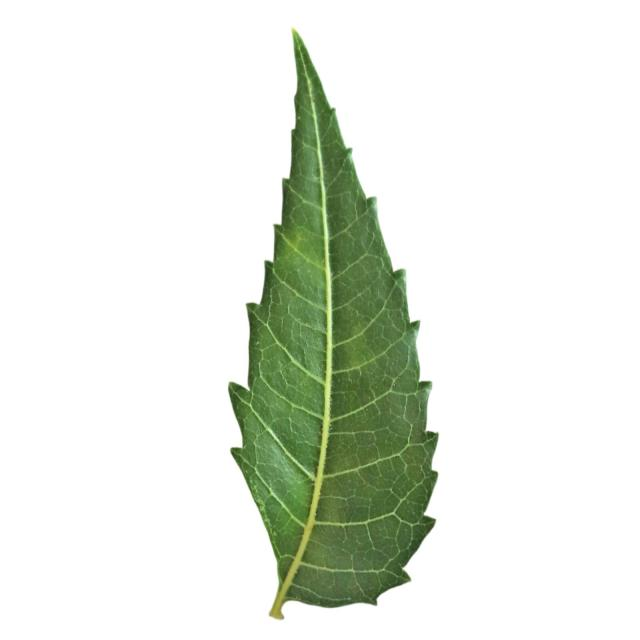Medicinal-Neem: (228, 26, 440, 620)
